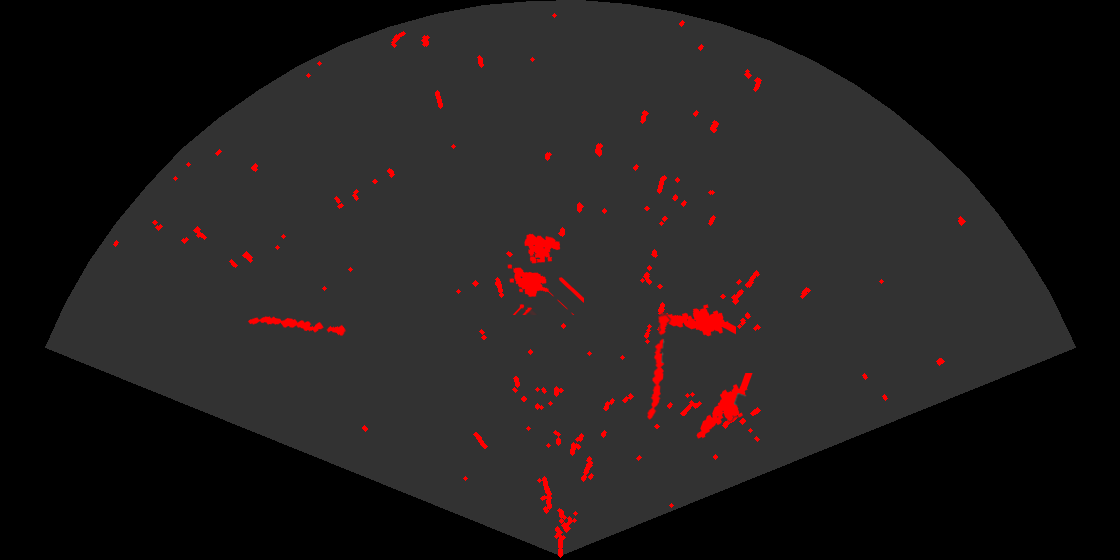cage: (506, 232, 584, 315)
chain: (646, 313, 672, 421), (246, 315, 348, 337)
frogman: (695, 373, 754, 440), (657, 303, 736, 338)
